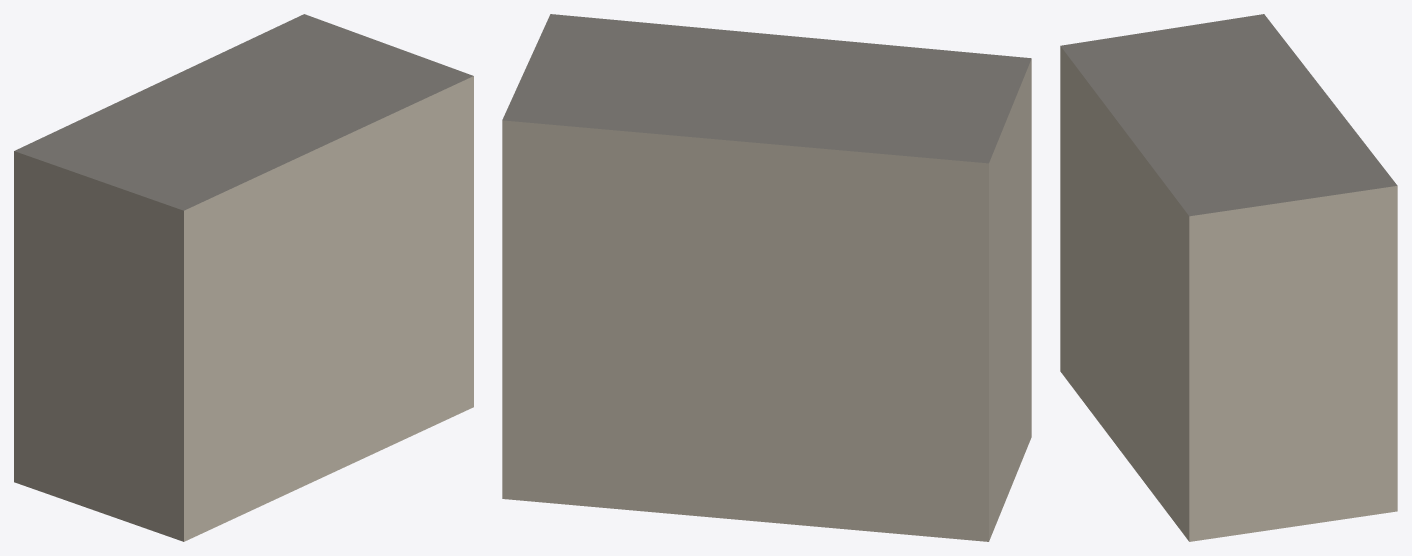
The picture shows the model from 3 angles, left to right: view 1: azimuth 30°, elevation 25°; view 2: azimuth 150°, elevation 25°; view 3: azimuth 270°, elevation 25°; orthographic projection. The views are drawn at different scales.
Parts seen in each view (by area): view 1: HP-w1159141677; view 2: HP-w1159141677; view 3: HP-w1159141677.
Boxes of the visible parts, x1=… form: HP-w1159141677: x1=14, y1=14, x2=473, y2=541; HP-w1159141677: x1=502, y1=14, x2=1031, y2=541; HP-w1159141677: x1=1060, y1=14, x2=1397, y2=541.
Size of the model in its own units: 23.98 by 18 by 16.9.
